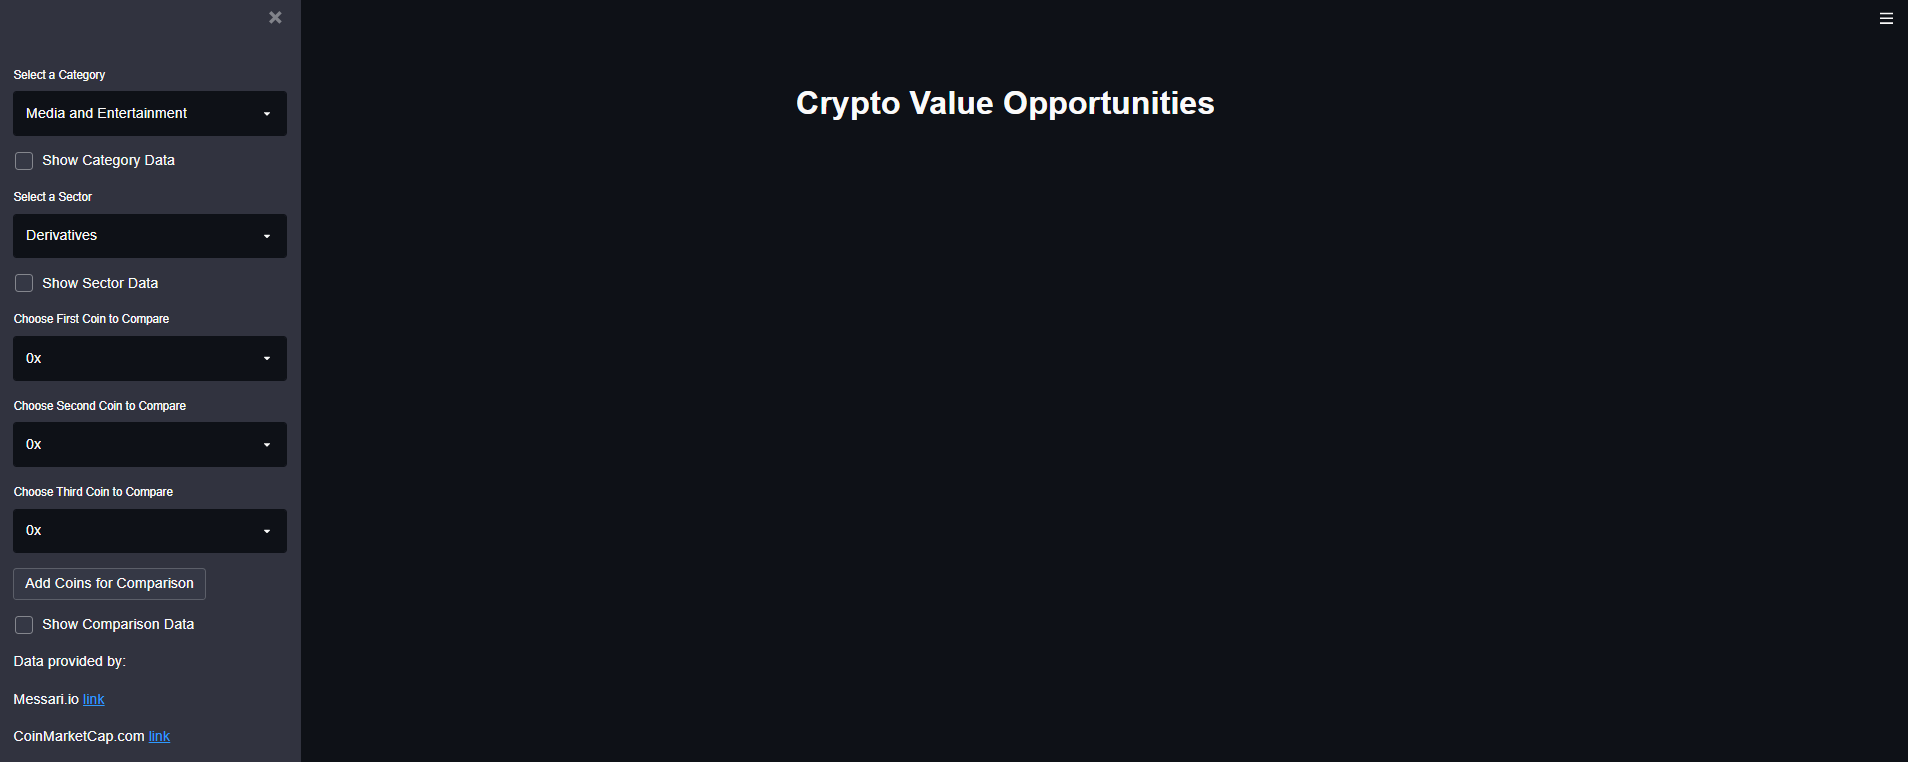

The dashboard page shown, as its layout file describes it:
{"tool":"tableau","page":{"name":"Dashboard 3","canvas":[1000,800],"ordinal":0},"visuals":[{"type":"title","box":[8,8,984,85]},{"type":"image","param":"/Users/kevinrodriguez/Desktop/Final_Project/FinalProject_CryptoAnalysis/crypto-i","box":[8,93,984,699]}]}

Visuals, with their boxes on the page's 1000x800 design canvas (x1, y1, x2, y2). These are canvas units, not pixel positions in the 1908x762 screenshot, which may show the page scaled, cropped or inside an application window:
title: l=8, t=8, r=992, b=93
image: l=8, t=93, r=992, b=792
